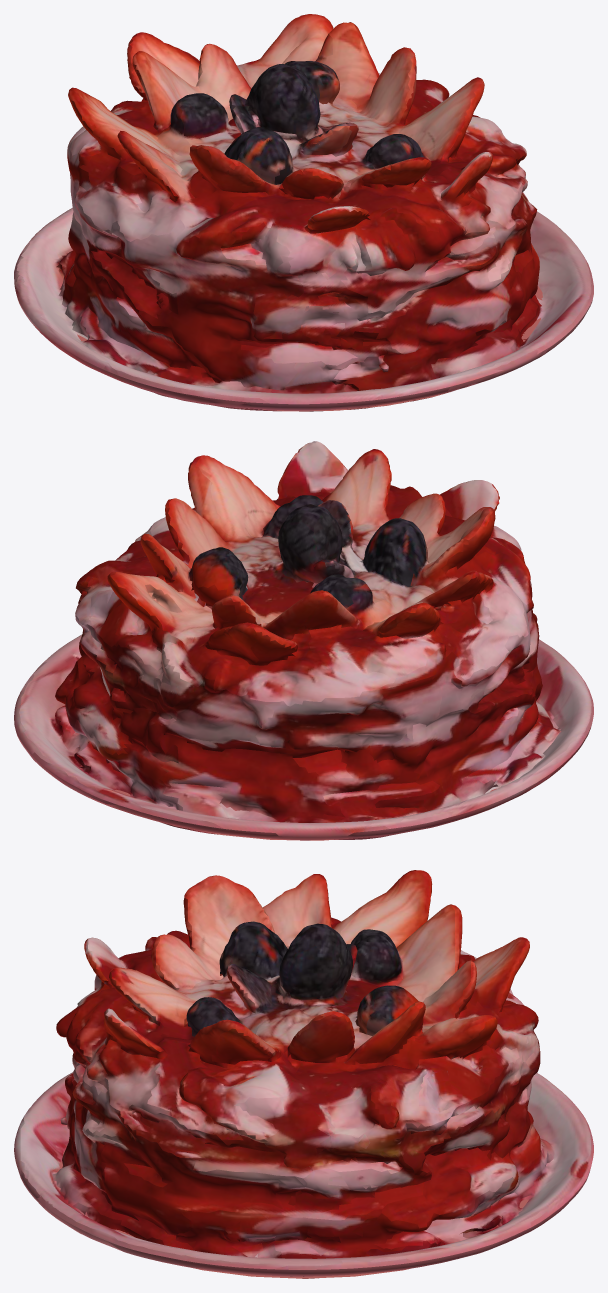
The model's file is torta-crepe-de-frutos-rojos.glb.
The picture shows the model from 3 angles, top to bottom: view 1: azimuth 30°, elevation 25°; view 2: azimuth 150°, elevation 25°; view 3: azimuth 270°, elevation 25°; orthographic projection.
Visible parts, largest first — view 1: textured_mesh.obj; view 2: textured_mesh.obj; view 3: textured_mesh.obj.
Part boxes in pixels (x1,y1,x2,y2): textured_mesh.obj: (14,14,593,411); textured_mesh.obj: (14,441,593,840); textured_mesh.obj: (14,870,593,1278).
Bounding box in the file's own units: 1.14 × 0.515 × 1.14.
Materials: 1 (1 with a texture image).
